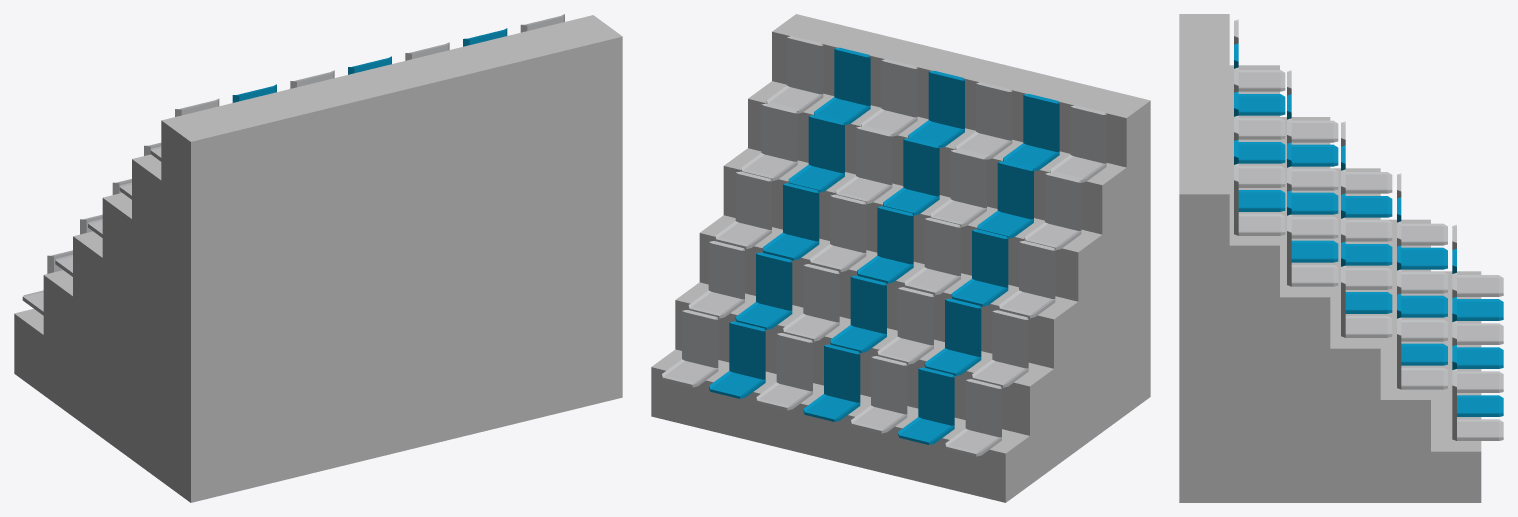
Rendered from standmodifed.fbx.
3 views of the same model, side by side, from view 1: azimuth 30°, elevation 25°; view 2: azimuth 150°, elevation 25°; view 3: azimuth 270°, elevation 25° (orthographic). The views are drawn at different scales.
Parts seen in each view (by area): view 1: Cube.052; view 2: Cube.052; view 3: Cube.052.
Boxes of the visible parts, x1=… form: Cube.052: x1=14, y1=14, x2=622, y2=502; Cube.052: x1=651, y1=14, x2=1150, y2=502; Cube.052: x1=1179, y1=14, x2=1503, y2=502.
Size of the model in its own units: 1503 by 1210 by 1143.
